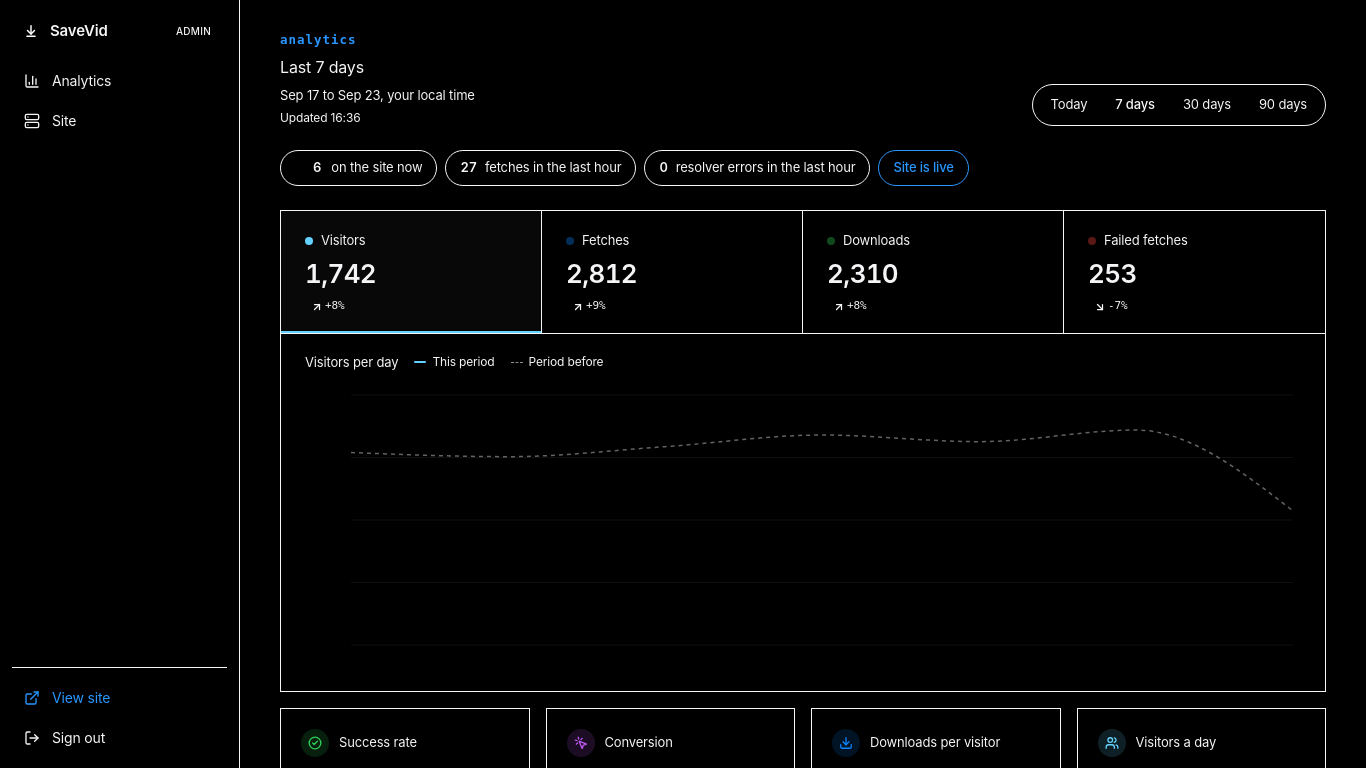
maintenance turned on from the Site page shows in the nav pill and the live strip, and Go live clears it
expect the text "Sep 17 to Sep 23, your local time" is shown: met, box [280, 85, 475, 106]
Click the link "Site is live".
click(924, 168)  # box [878, 150, 969, 186]
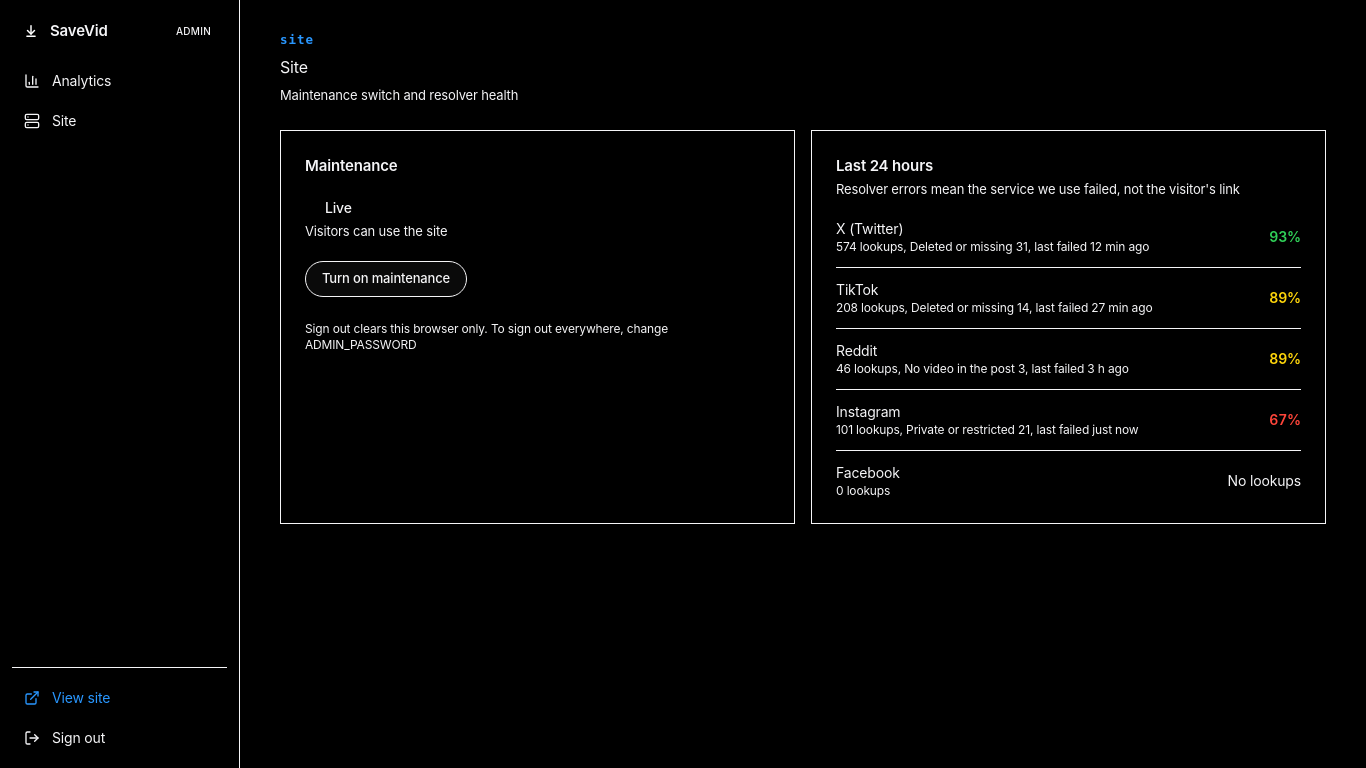
expect the heading "Site" is shown: met, box [280, 57, 308, 77]
Click the button "Turn on maintenance".
click(386, 279)  # box [305, 261, 467, 297]
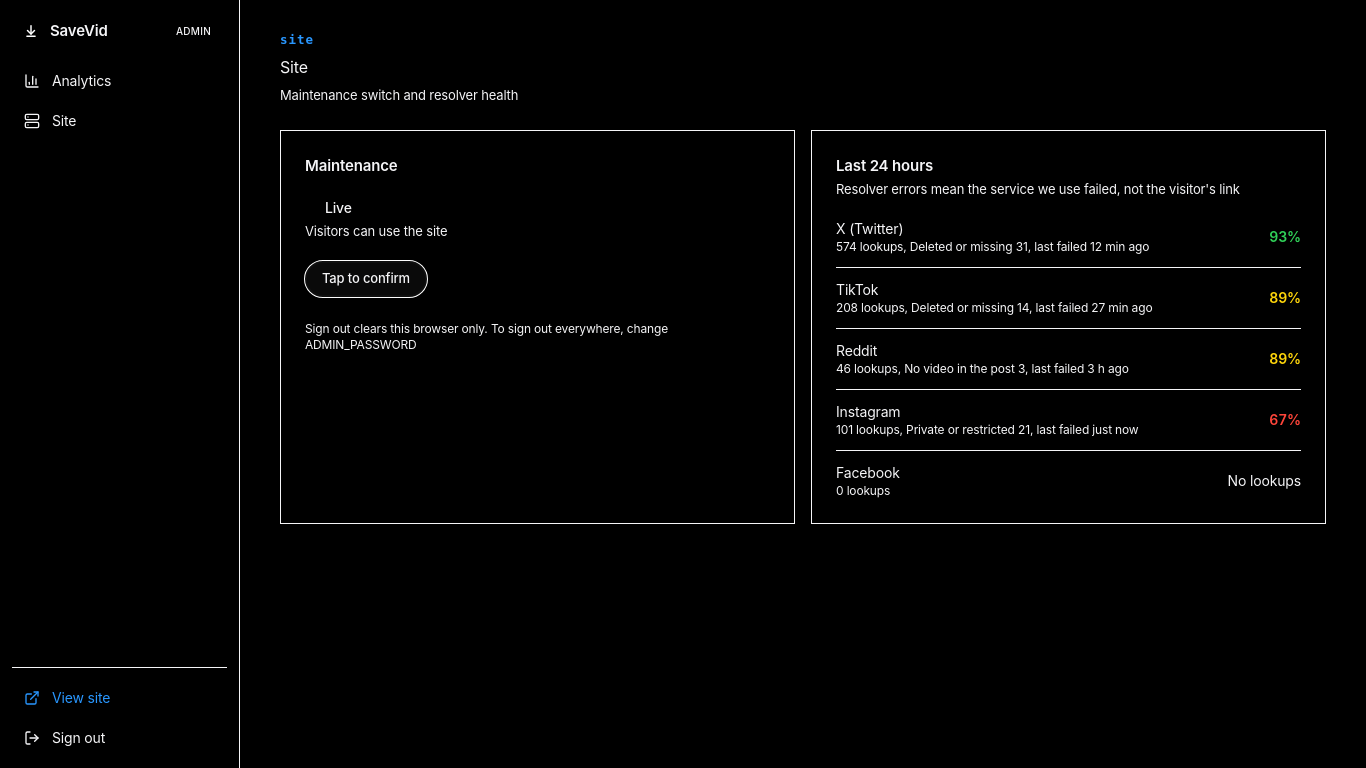
Click the button "Tap to confirm".
click(366, 279)  # box [305, 261, 427, 297]
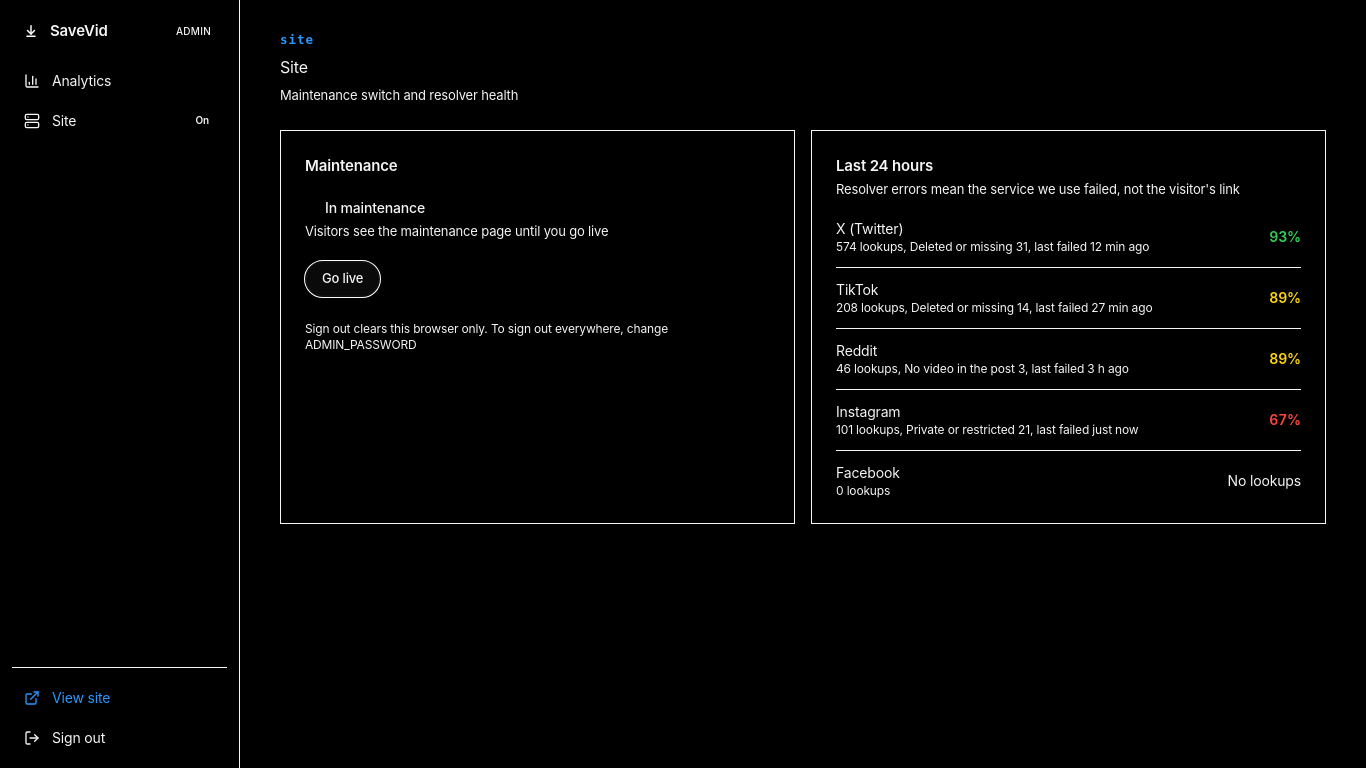
expect the text "In maintenance" is shown: met, box [325, 198, 425, 218]
expect the button "Site On" is shown: met, box [12, 102, 227, 138]
Click the button "Analytics".
click(120, 80)  # box [12, 62, 227, 98]
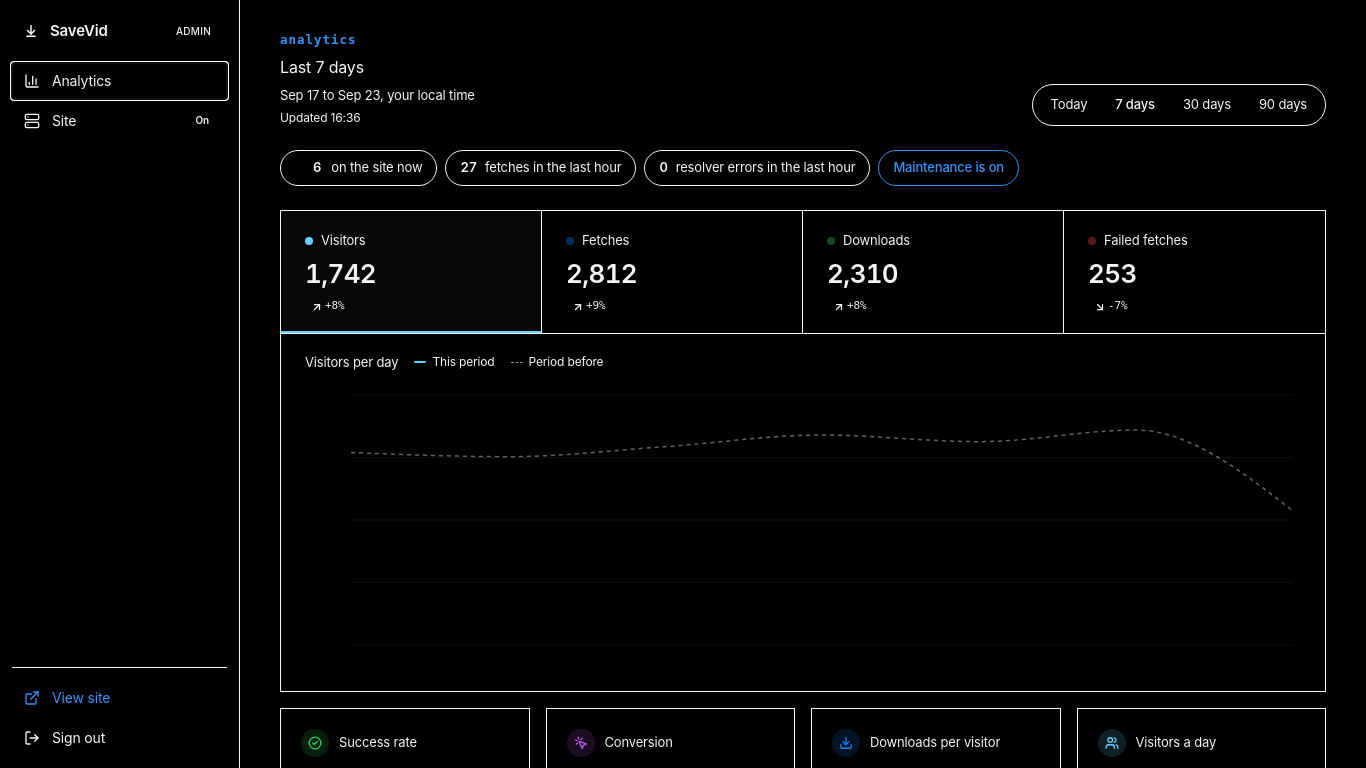
expect the link "Maintenance is on" is shown: met
Click the link "Maintenance is on".
click(949, 168)  # box [878, 150, 1019, 186]
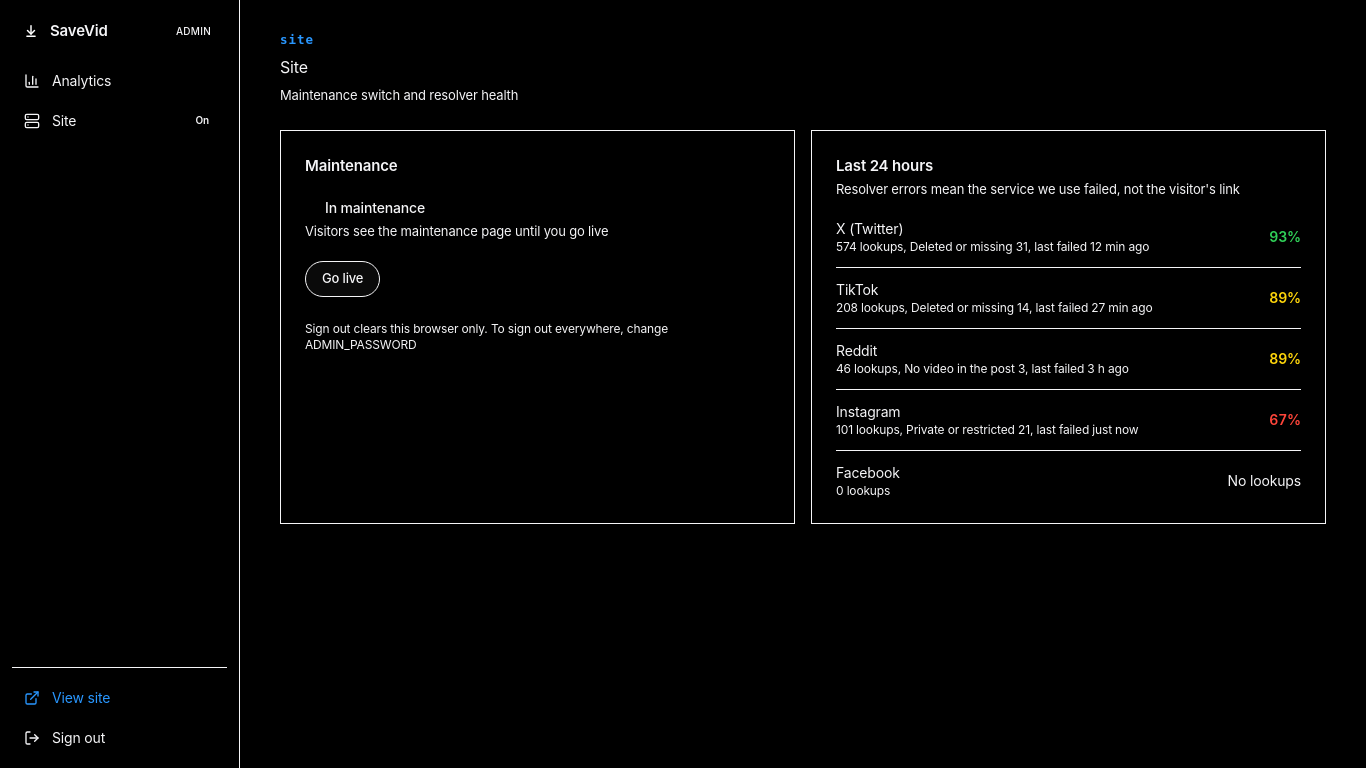
expect the heading "Site" is shown: met, box [280, 57, 308, 77]
Click the button "Go live".
click(343, 279)  # box [305, 261, 380, 297]
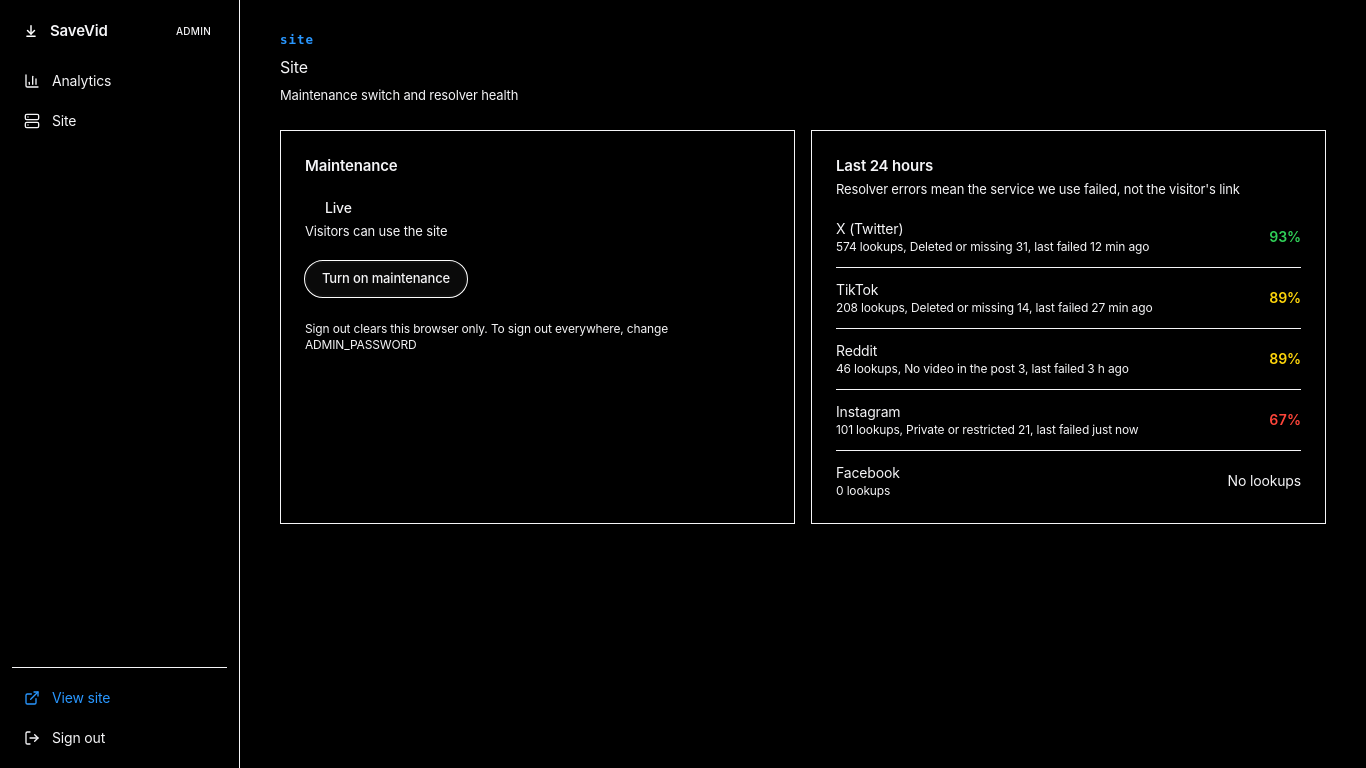
expect the text "Live" is shown: met, box [325, 198, 352, 218]
